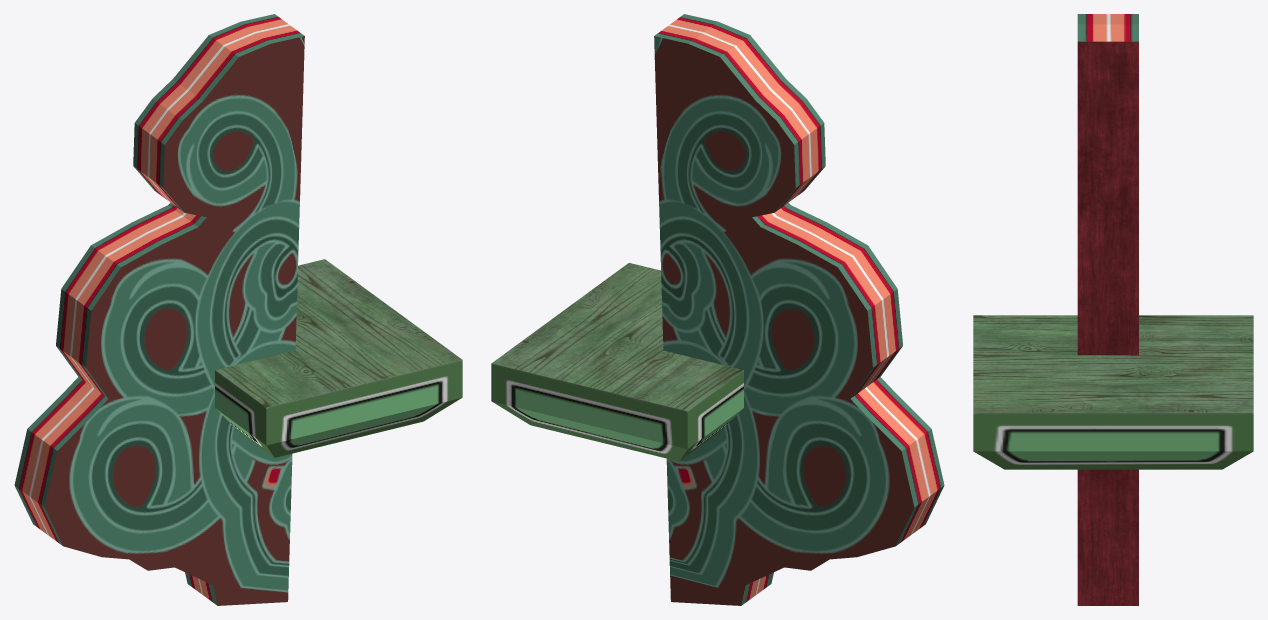
File: SM_R_Beam_30.fbx
3 renders of one model, left to right at view 1: azimuth 30°, elevation 25°; view 2: azimuth 150°, elevation 25°; view 3: azimuth 270°, elevation 25°, orthographic.
Parts seen in each view (by area): view 1: SM_R_Beam_30; view 2: SM_R_Beam_30; view 3: SM_R_Beam_30.
Part boxes in pixels (x1,y1,x2,y2): SM_R_Beam_30: (14, 14, 462, 605); SM_R_Beam_30: (491, 14, 944, 605); SM_R_Beam_30: (973, 14, 1253, 605).
Size of the model in its own units: 66.98 by 43.51 by 98.18.
Materials: 4 (4 with a texture image).
